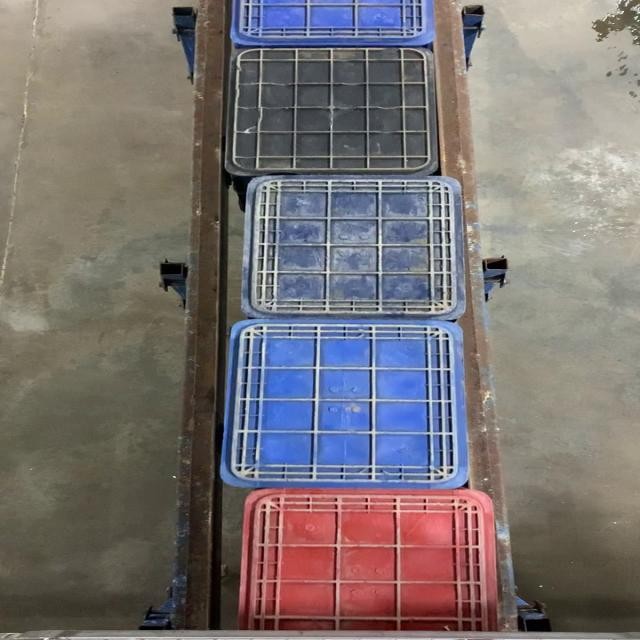Box: (224, 322, 469, 486), (244, 178, 466, 322)
Damaged_box: (229, 46, 439, 178)
